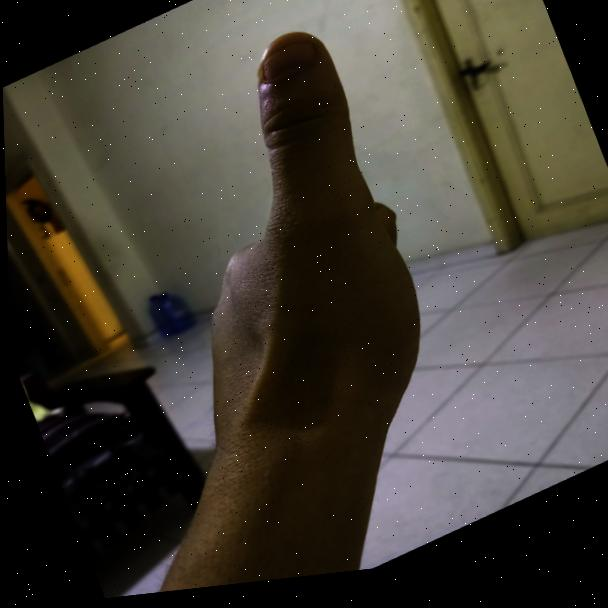five: (76, 1, 477, 493)
